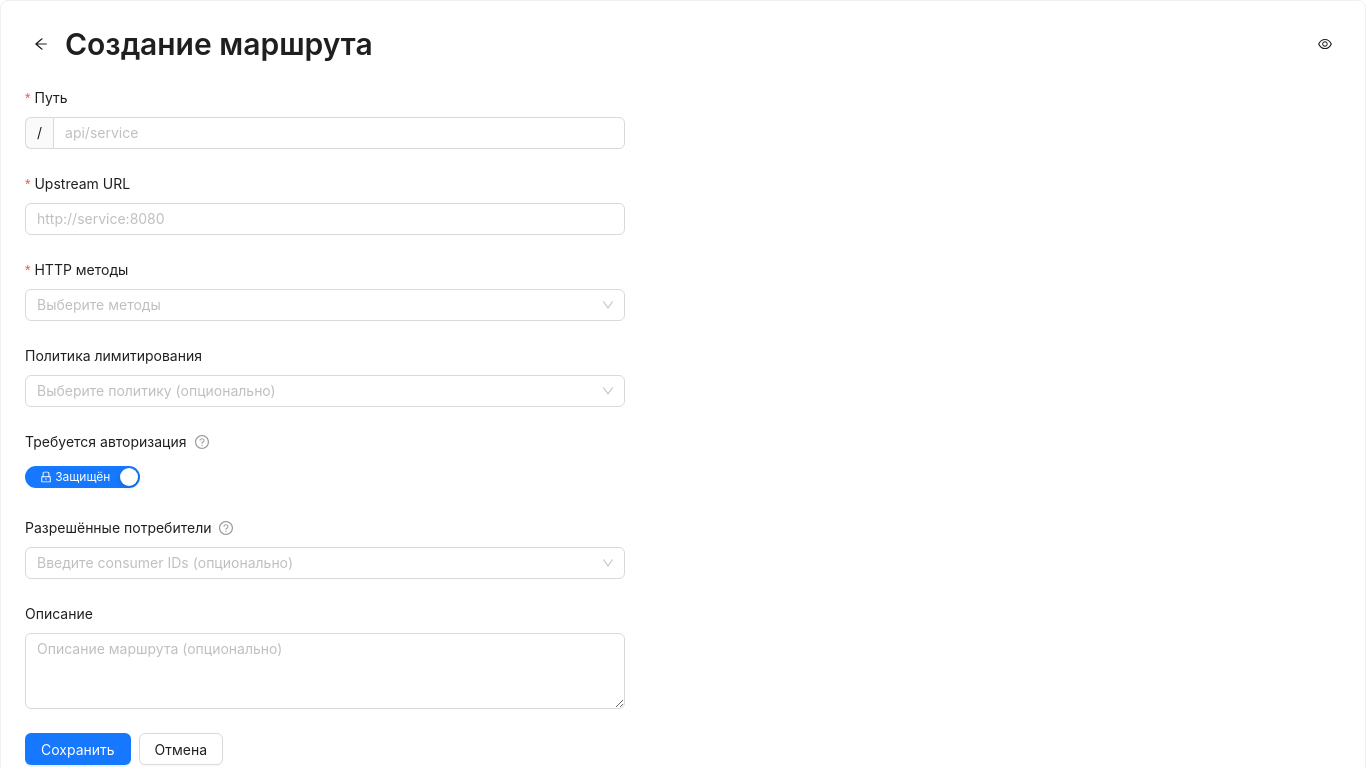
Test: RouteFormPage › keyboard shortcuts › обрабатывает нажатие Ctrl+Enter для отправки формы
The image size is (1366, 768).
Заполняем валидную форму
Type "api/test" into the field with placeholder "api/service" at (339, 133), box [53,117,625,149]
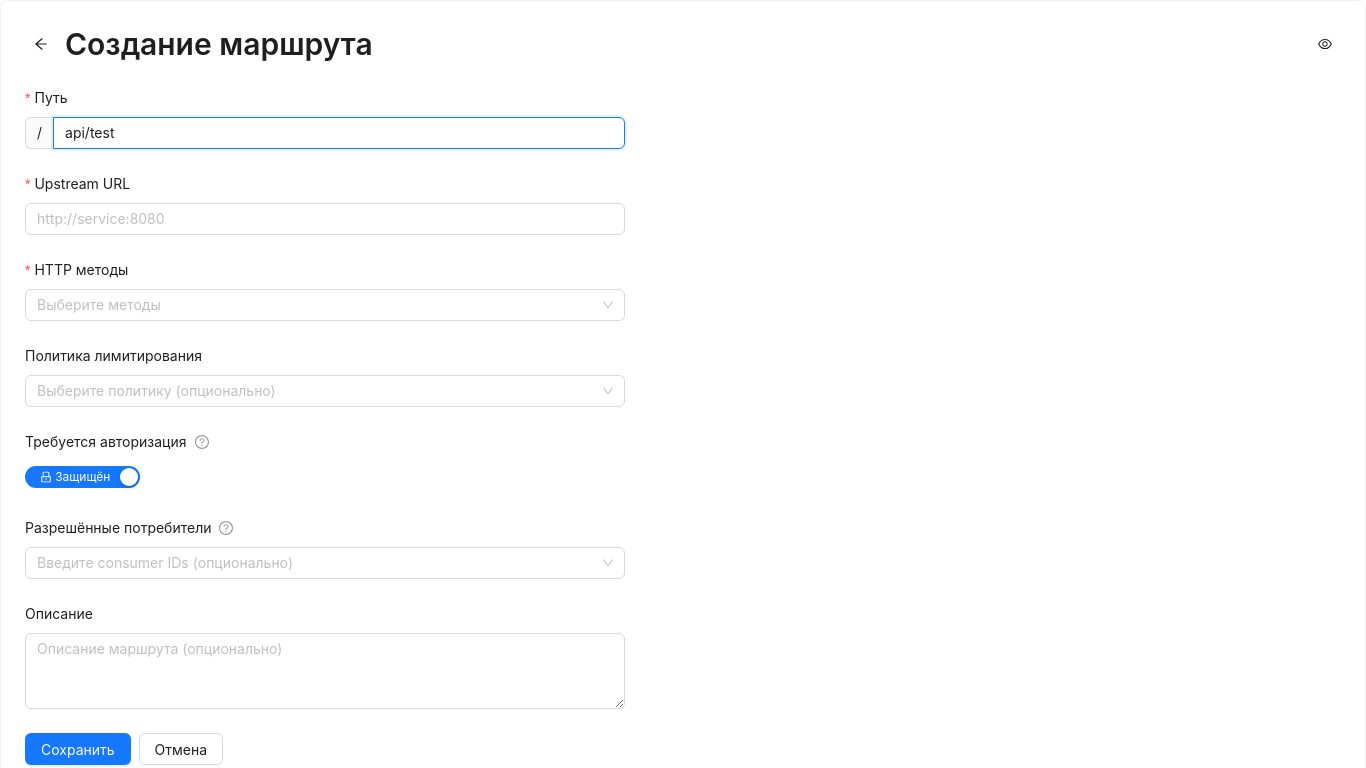
Type "http://test:8080" into the field with placeholder "http://service:8080" at (325, 219), box [25,203,625,235]
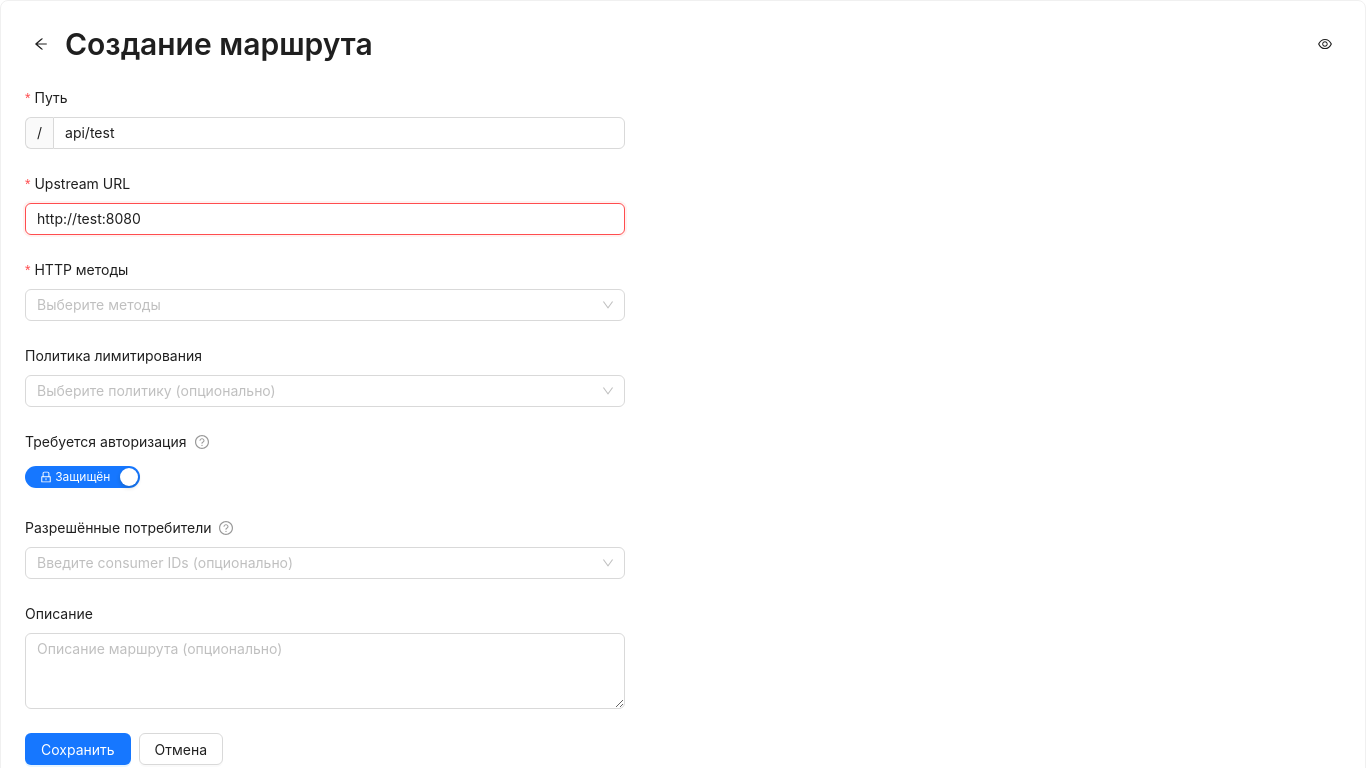
Нажимаем Ctrl+Enter (форма без methods — валидация не пройдёт)
Press Enter
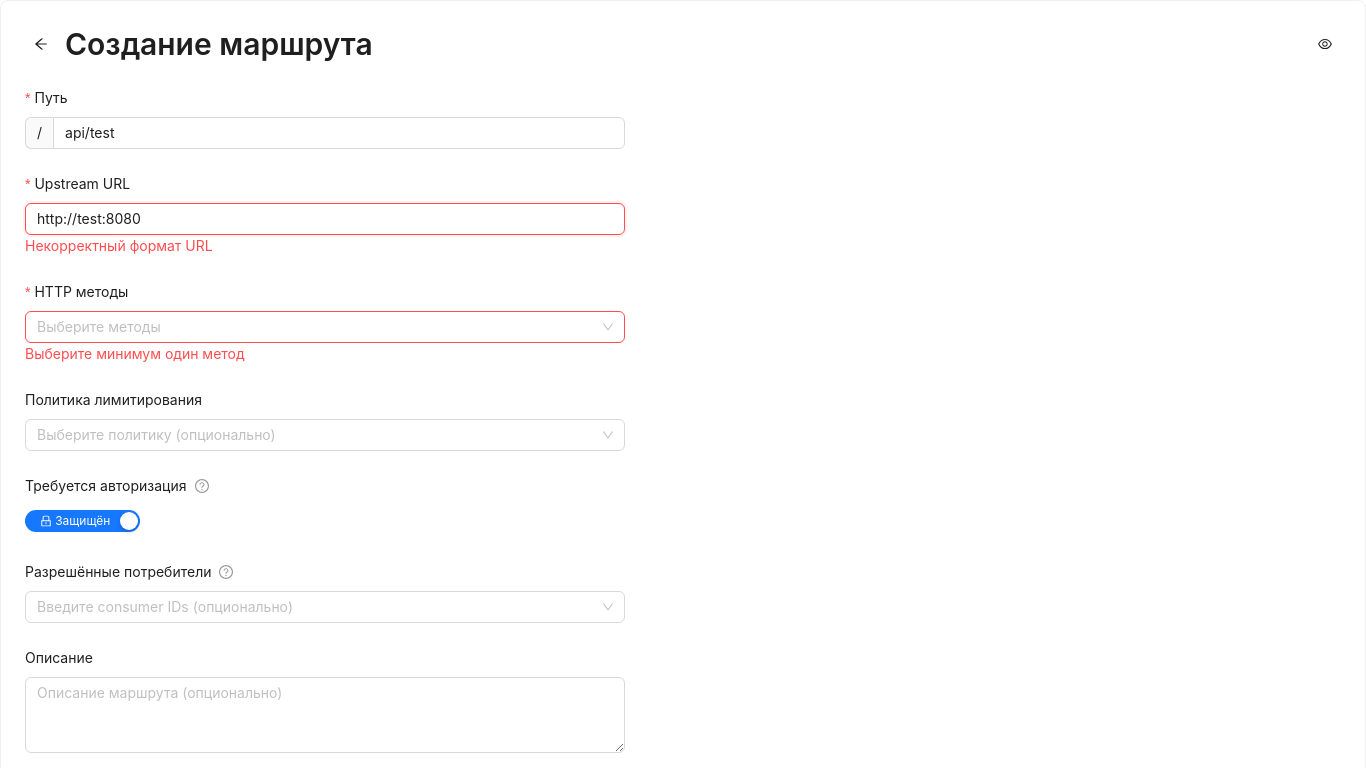
Expected: the text "Выберите минимум один метод" is shown, [25,345,245,362]
